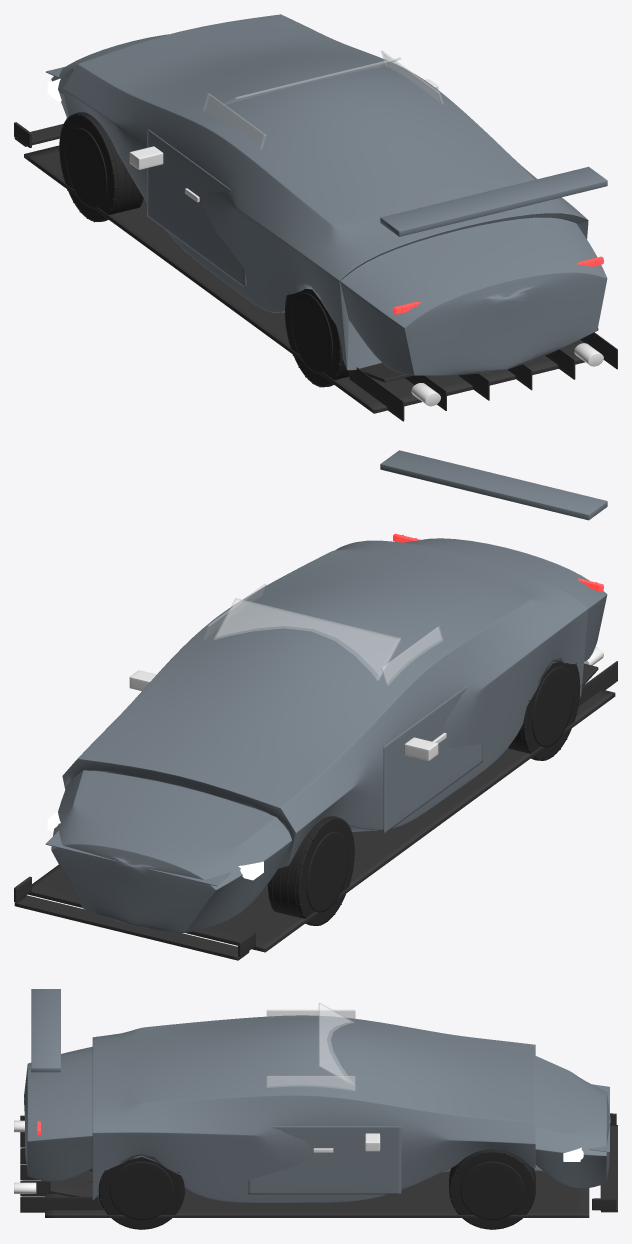
Rendered from Car_Genesis_G70_Shooting_Brake_2020s_Complete.glb.
3 renders of one model, top to bottom at view 1: azimuth 30°, elevation 25°; view 2: azimuth 150°, elevation 25°; view 3: azimuth 270°, elevation 25°, orthographic. The views are drawn at different scales.
Parts seen in each view (by area): view 1: BODY_MainShell, UNDERBODY_FlatFloor, BODY_Door_FL, WHEEL_FL_Tire, AERO_G70_RoofSpoiler, WHEEL_RL_Tire, GLASS_Greenhouse, JEWELRY_G70_DualExhaust, JEWELRY_Hardware, AERO_FrontSplitter; view 2: BODY_MainShell, UNDERBODY_FlatFloor, BODY_Door_FL, WHEEL_FL_Tire, GLASS_Greenhouse, AERO_G70_RoofSpoiler, WHEEL_RL_Tire, AERO_FrontSplitter, JEWELRY_Hardware, BODY_Hood; view 3: BODY_MainShell, UNDERBODY_FlatFloor, BODY_Door_FR, WHEEL_FR_Tire, WHEEL_RR_Tire, GLASS_Greenhouse, AERO_G70_RoofSpoiler, AERO_FrontSplitter, JEWELRY_G70_DualExhaust, JEWELRY_Hardware.
Boxes of the visible parts, x1,y1,x2,y2 form: BODY_MainShell: (51, 14, 607, 375); UNDERBODY_FlatFloor: (24, 145, 617, 421); BODY_Door_FL: (147, 128, 246, 288); WHEEL_FL_Tire: (58, 112, 143, 222); AERO_G70_RoofSpoiler: (380, 166, 607, 236); WHEEL_RL_Tire: (284, 289, 349, 387); GLASS_Greenhouse: (203, 50, 443, 148); JEWELRY_G70_DualExhaust: (411, 343, 603, 406); JEWELRY_Hardware: (129, 79, 438, 202); AERO_FrontSplitter: (14, 122, 63, 147); BODY_MainShell: (51, 538, 607, 932); UNDERBODY_FlatFloor: (28, 661, 617, 952); BODY_Door_FL: (383, 684, 482, 833); WHEEL_FL_Tire: (267, 816, 354, 925); GLASS_Greenhouse: (202, 584, 443, 685); AERO_G70_RoofSpoiler: (380, 450, 607, 520); WHEEL_RL_Tire: (508, 662, 580, 760); AERO_FrontSplitter: (14, 876, 255, 960); JEWELRY_Hardware: (129, 670, 446, 760); BODY_Hood: (45, 830, 230, 886); BODY_MainShell: (24, 1015, 610, 1202); UNDERBODY_FlatFloor: (20, 1115, 589, 1217); BODY_Door_FR: (248, 1126, 401, 1194); WHEEL_FR_Tire: (449, 1149, 535, 1229); WHEEL_RR_Tire: (98, 1156, 185, 1229); GLASS_Greenhouse: (266, 1003, 355, 1090); AERO_G70_RoofSpoiler: (31, 989, 60, 1072); AERO_FrontSplitter: (592, 1113, 617, 1212); JEWELRY_G70_DualExhaust: (14, 1120, 36, 1193); JEWELRY_Hardware: (313, 1133, 380, 1152).
Size of what is drawn, in the model's own units: 2.18 by 1.39 by 4.89.
